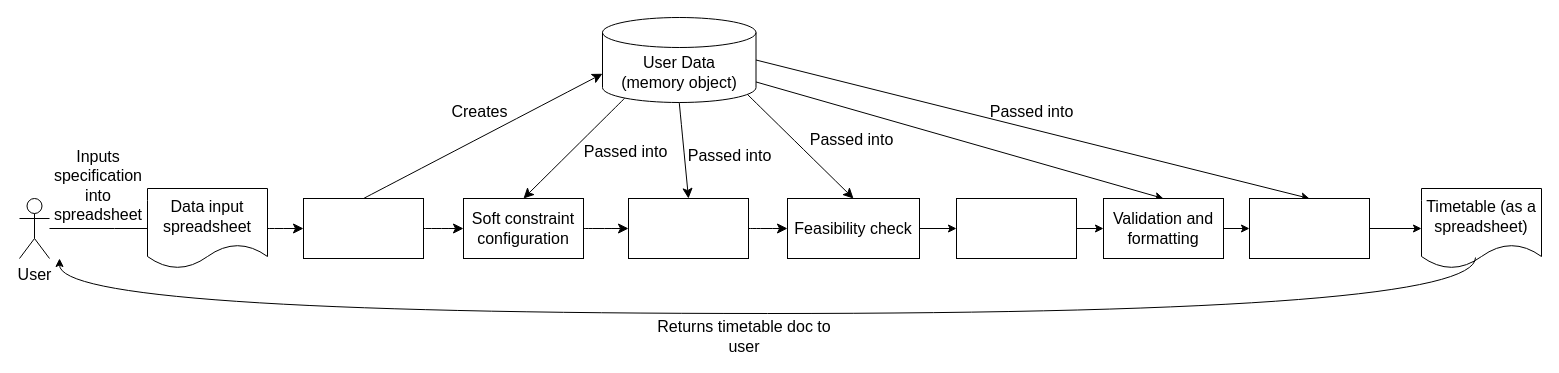
This 1559x373 diagram has some shape labels left out. Here are the shapes that lost their labels. From the top down, the box of each, then its label:
(302, 198, 424, 258): Data extraction
(628, 198, 748, 258): Constraint system configuration
(956, 198, 1076, 258): Timetable generator
(1248, 198, 1370, 258): Timetable viewer
